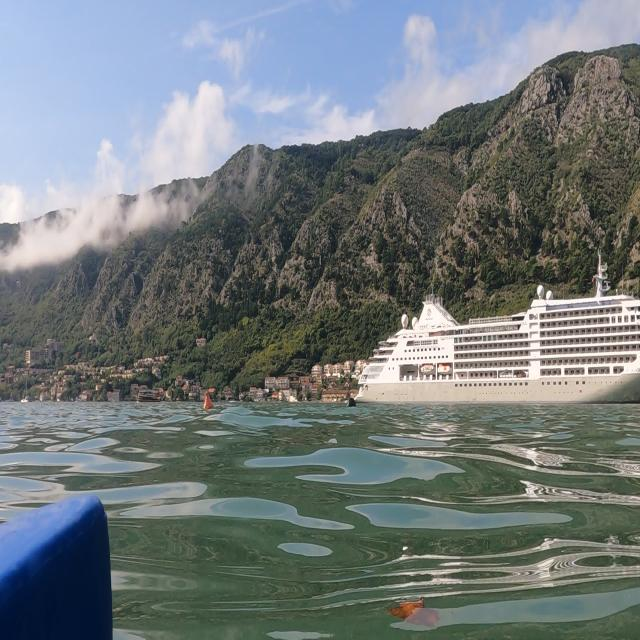boat: (352, 248, 638, 407)
buoy: (198, 387, 217, 418), (343, 393, 355, 411)
